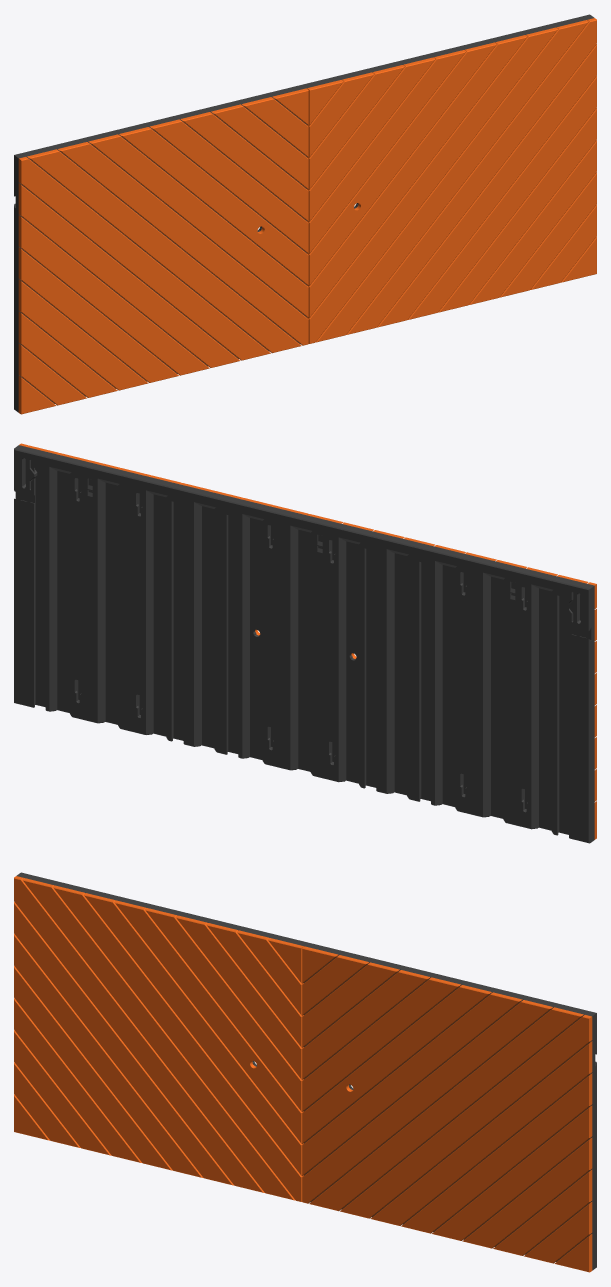
The model's file is Faceplate_Chevron_3W-2H.lib.glb.
The picture shows the model from 3 angles, top to bottom: view 1: azimuth 30°, elevation 25°; view 2: azimuth 150°, elevation 25°; view 3: azimuth 330°, elevation 25°; orthographic projection.
Visible parts, largest first — view 1: Faceplate_Chevron_3W-2H; view 2: Faceplate_Chevron_3W-2H; view 3: Faceplate_Chevron_3W-2H.
Part boxes in pixels (x1,y1,x2,y2): Faceplate_Chevron_3W-2H: (14, 14, 596, 414); Faceplate_Chevron_3W-2H: (14, 443, 596, 843); Faceplate_Chevron_3W-2H: (14, 872, 596, 1272).
Size of the model in its own units: 263 by 111 by 6.2.
